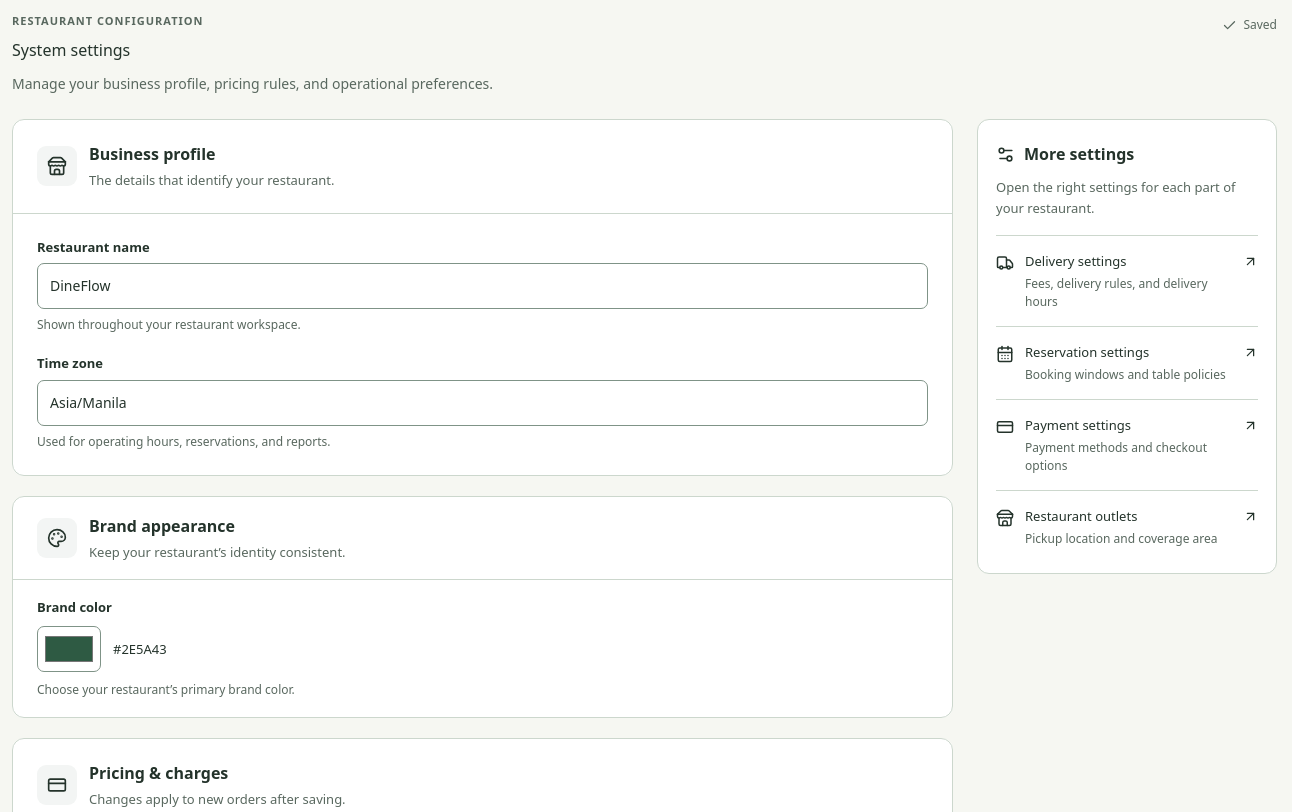
explains the disabled save action and lets administrators discard drafts
Replace the text in the field labelled "Restaurant name" with "New restaurant name". click: (482, 286)
box: [37,263,928,309]
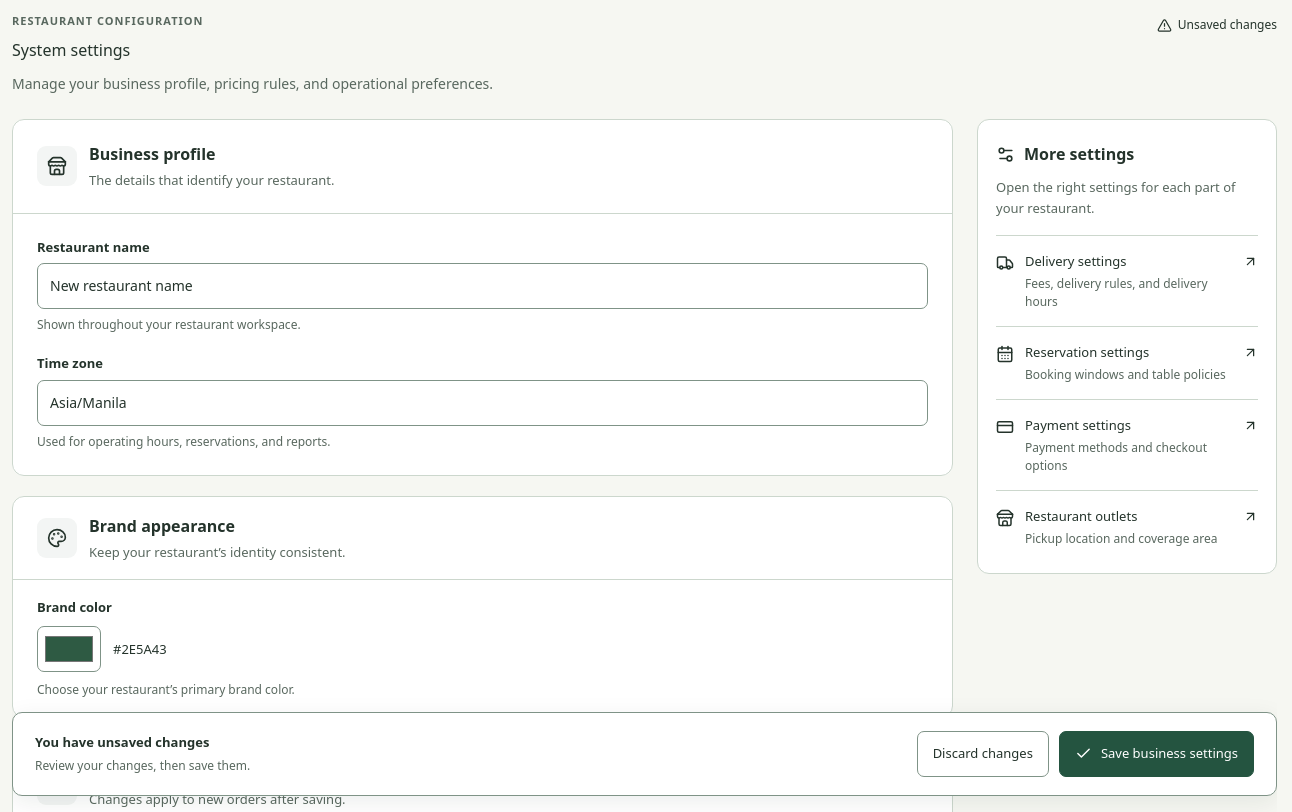
Check: the button "Save business settings" is enabled, box [1059,731,1254,777]
Click the button "Discard changes". click: (983, 754)
box: [917,731,1049,777]
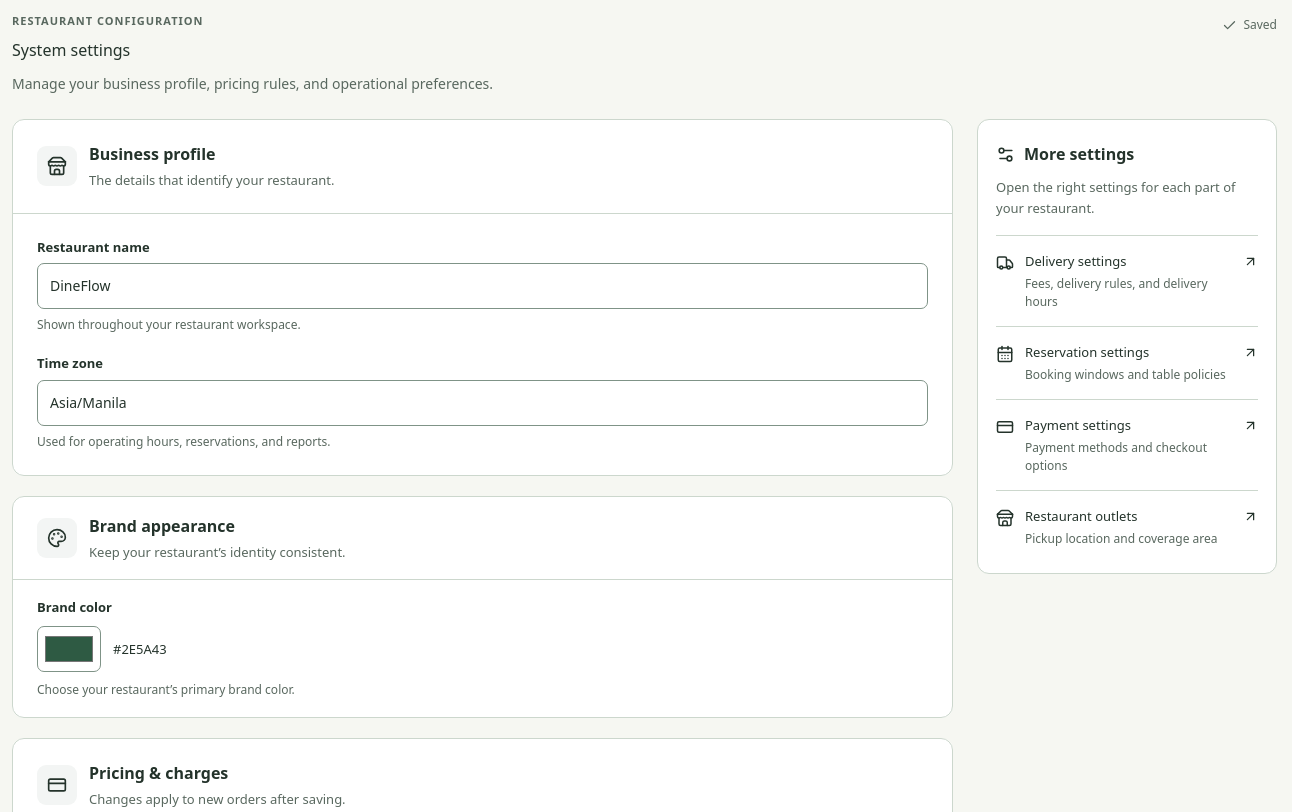
Check: the field labelled "Restaurant name" holds "DineFlow", box [37,263,928,309]
